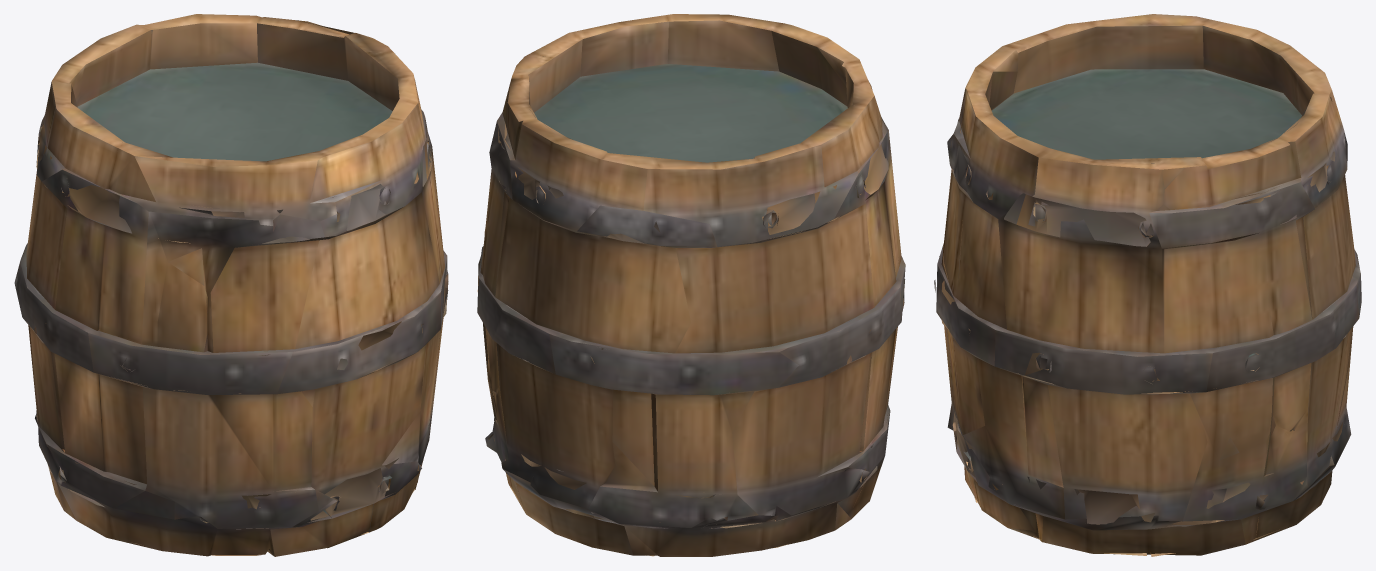
3 renders of one model, left to right at view 1: azimuth 30°, elevation 25°; view 2: azimuth 150°, elevation 25°; view 3: azimuth 270°, elevation 25°, orthographic.
Parts seen in each view (by area): view 1: geometry_0; view 2: geometry_0; view 3: geometry_0.
Boxes of the visible parts, x1,y1,x2,y2 form: geometry_0: (14, 14, 448, 556); geometry_0: (477, 14, 905, 556); geometry_0: (934, 14, 1361, 556).
Size of the model in its own units: 0.8341 by 0.8463 by 0.8381.
Materials: 1 (1 with a texture image).
